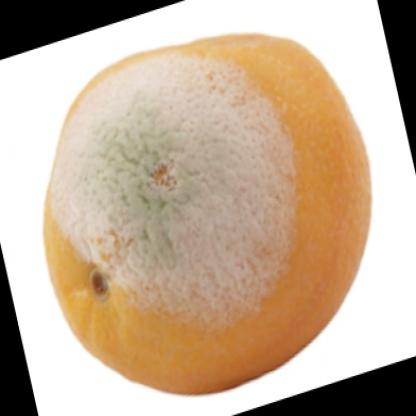rotten_orange: (45, 9, 373, 409)
